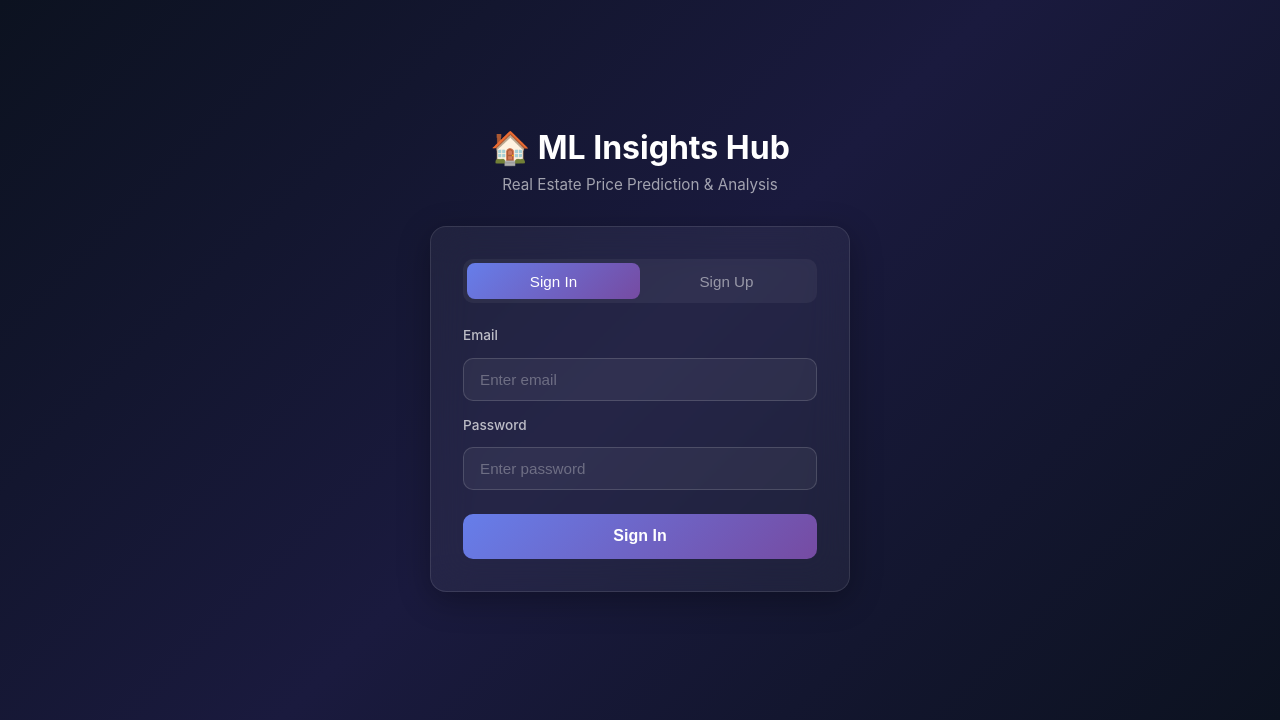
Scenario: AuthPage › shows error message when login fails
In the field labelled "Email": (640, 379) [463, 358, 817, 400], type "test@example.com"
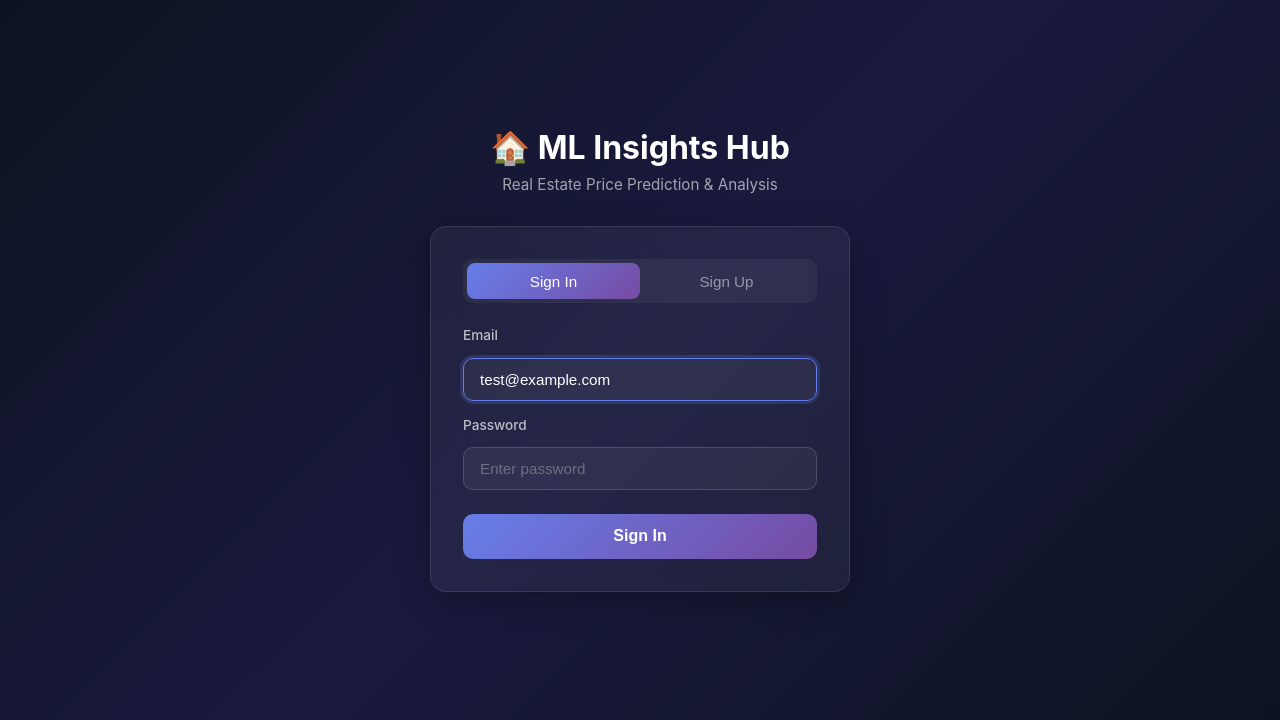
In the password field labelled "Password": (640, 468) [463, 447, 817, 490], type "WrongP@ss1"
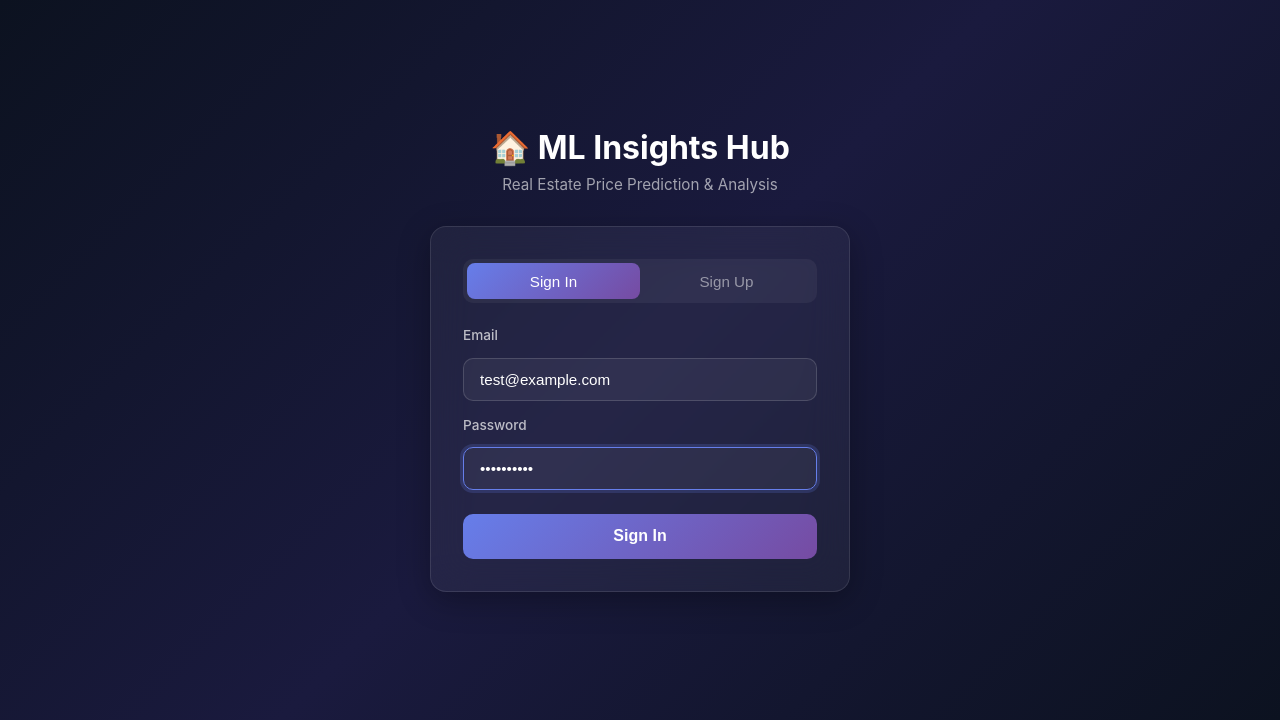
Click the button "Sign In" below "Password": (640, 536) [463, 514, 817, 559]
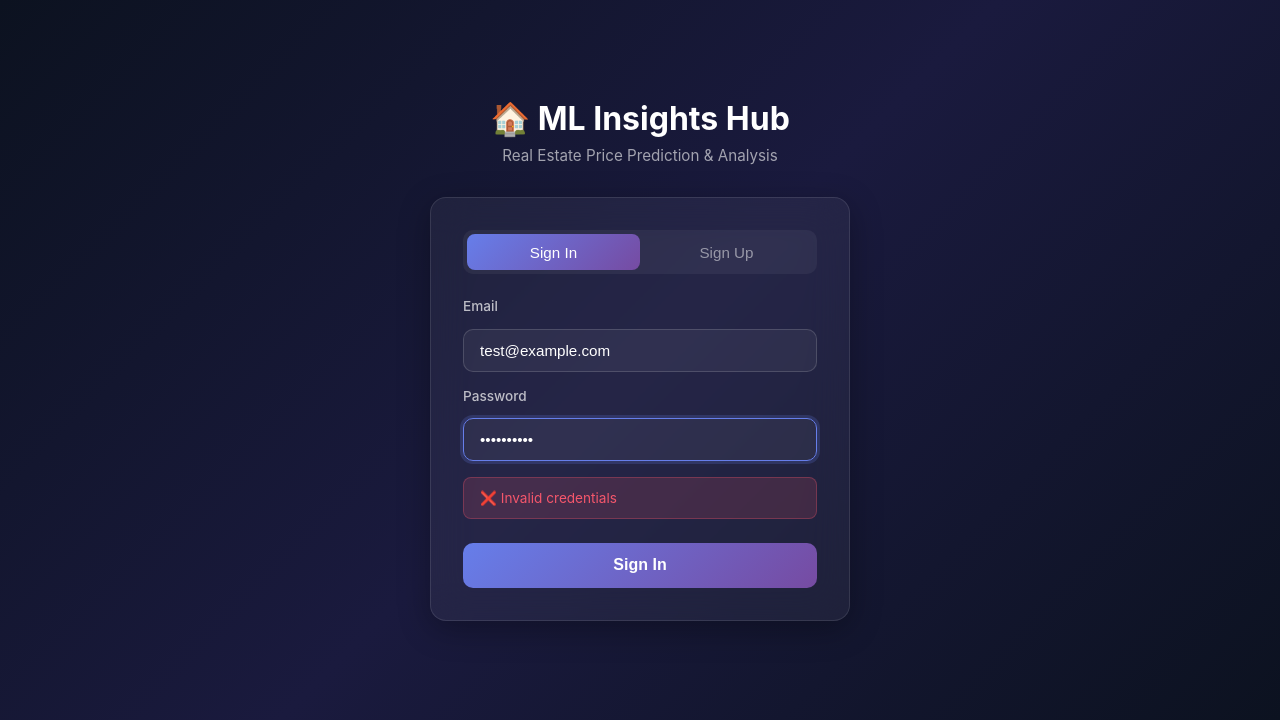
Expected: the text "❌ Invalid credentials" is shown, [480, 490, 617, 506]
